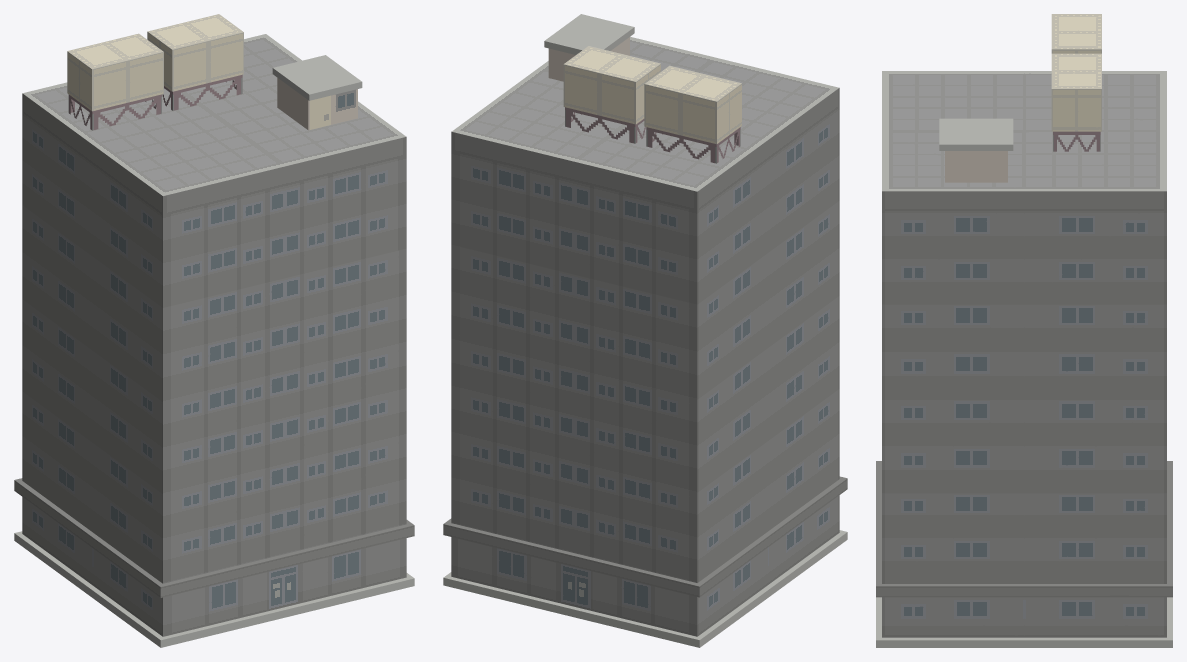
Rendered from 0271_Coral_Building.glb.
3 views of the same model, side by side, from view 1: azimuth 30°, elevation 25°; view 2: azimuth 150°, elevation 25°; view 3: azimuth 270°, elevation 25° (orthographic).
Visible parts, largest first — view 1: part_0; view 2: part_0; view 3: part_0.
Boxes of the visible parts, box(x1,y1,x2,y2) form: part_0: box(14, 14, 414, 647); part_0: box(443, 14, 847, 647); part_0: box(876, 14, 1172, 647).
Size of the model in its own units: 15.89 by 30.57 by 15.89.
Materials: 1 (1 with a texture image).
